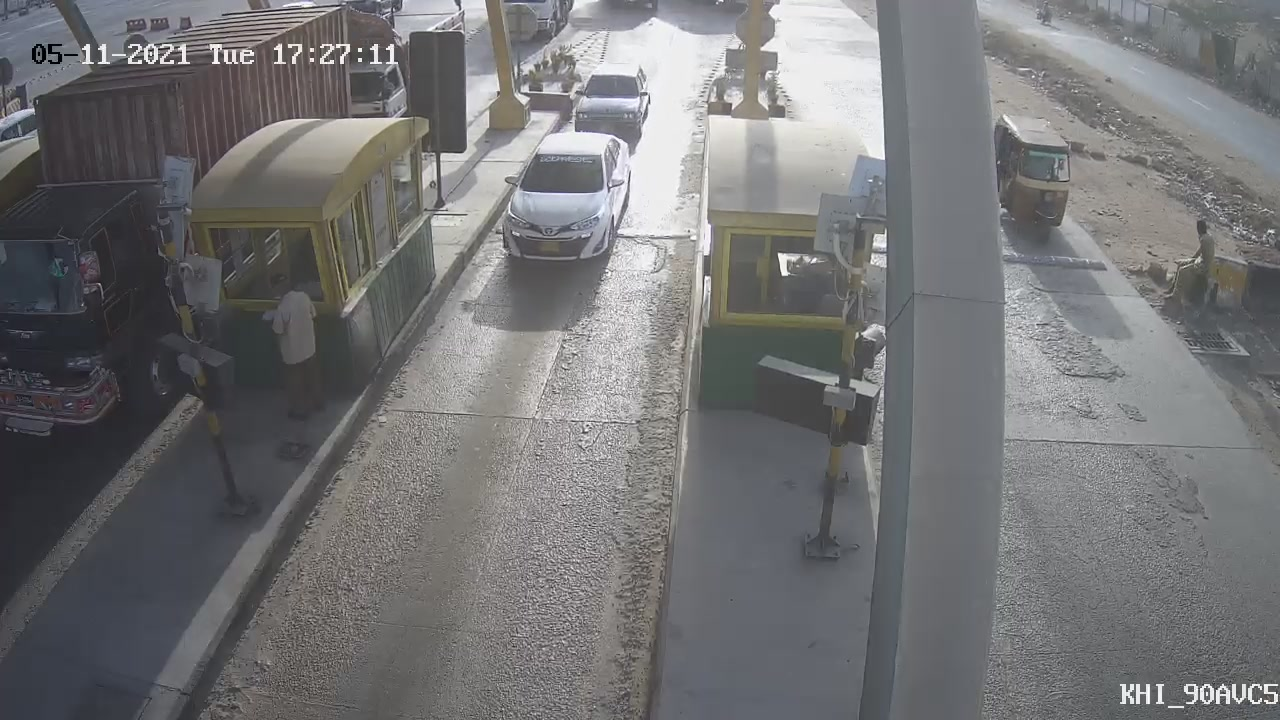F1: (487, 120, 657, 288), (557, 57, 663, 152)
